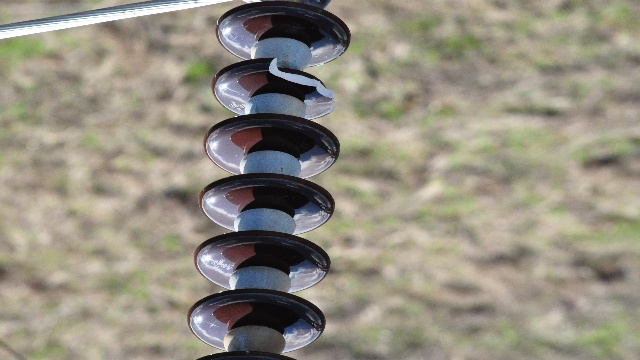broken_local: (265, 56, 337, 104)
insulator_unspecified: (190, 4, 351, 359)
